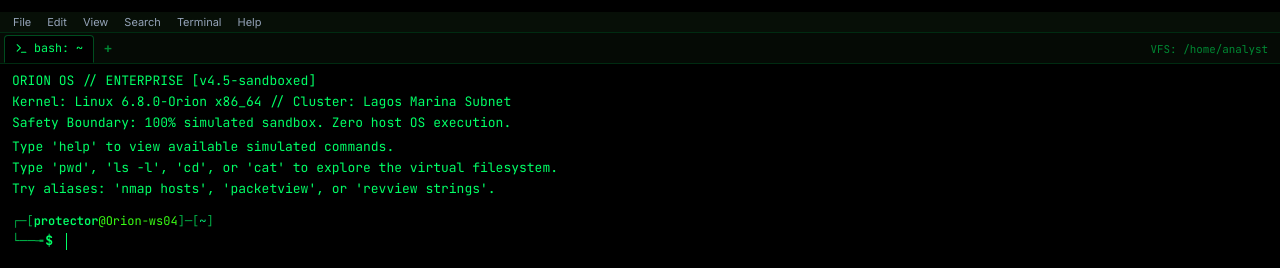
it: TerminalApp Component › supports Tab completion for netmap command
Step 1. Type "netm" into the field with test id "terminal-command-input" → (667,241), box [66,231,1268,252]
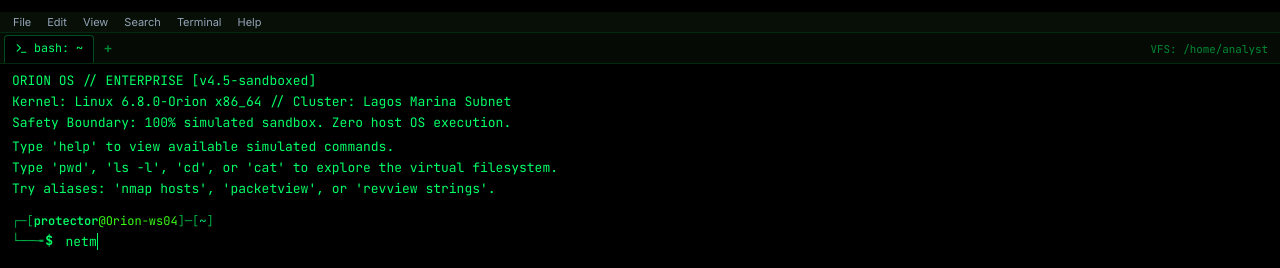
Step 2. Press Tab in the field with test id "terminal-command-input", box [66,231,1268,252]
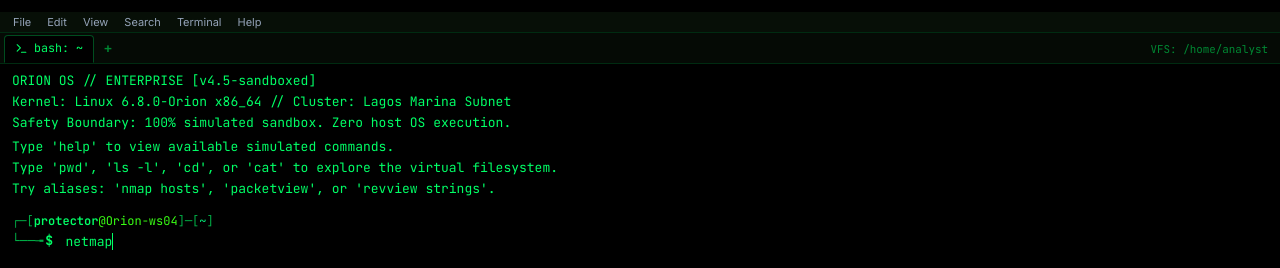
Now the field with test id "terminal-command-input" holds "netmap", box [66,231,1268,252]
